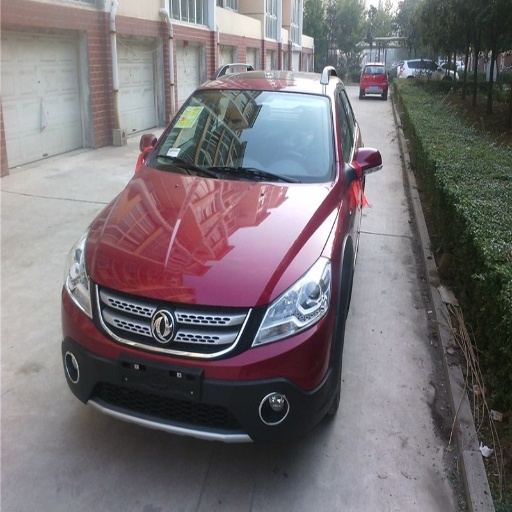front_bumper: (64, 284, 336, 443)
front_right_light: (65, 246, 91, 313)
hood: (89, 162, 341, 306)
